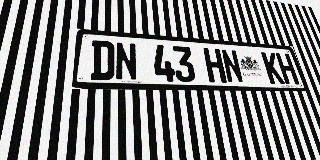3: (172, 46, 196, 82)
4: (152, 44, 176, 82)
D: (90, 40, 114, 81)
H: (203, 48, 227, 83), (275, 53, 300, 84)
K: (261, 52, 285, 84)
N: (115, 42, 138, 81), (220, 49, 244, 83)
